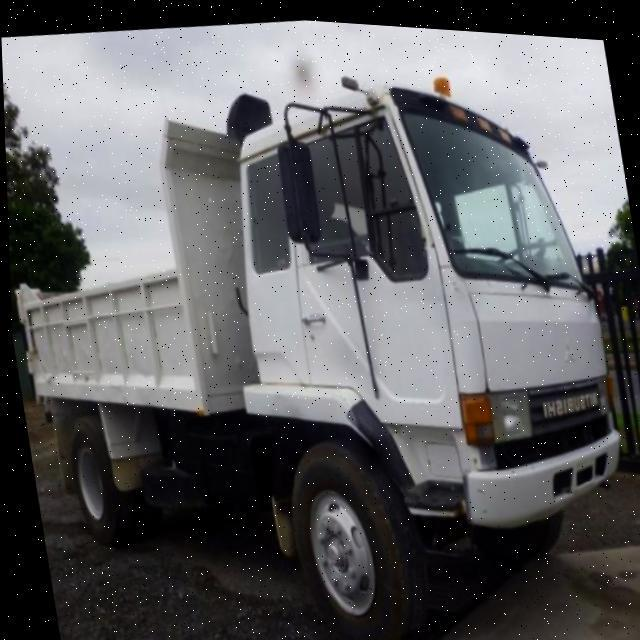truck: (1, 36, 640, 640)
